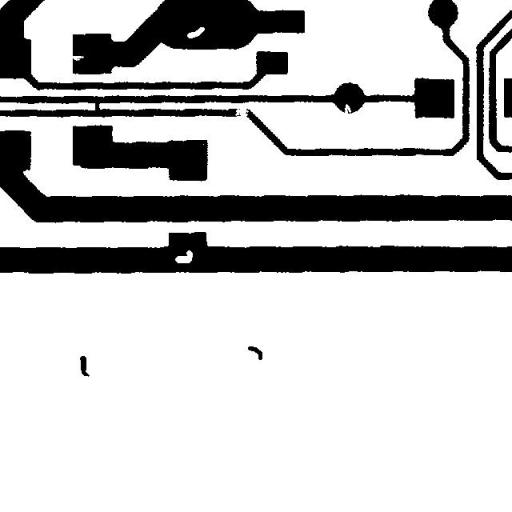copper: (240, 338, 270, 368), (72, 348, 97, 384)
mousebite: (61, 48, 91, 68), (337, 96, 358, 122)
open: (227, 101, 256, 123)
pin-hole: (167, 242, 200, 270), (179, 19, 212, 46)
short: (87, 93, 107, 121)
